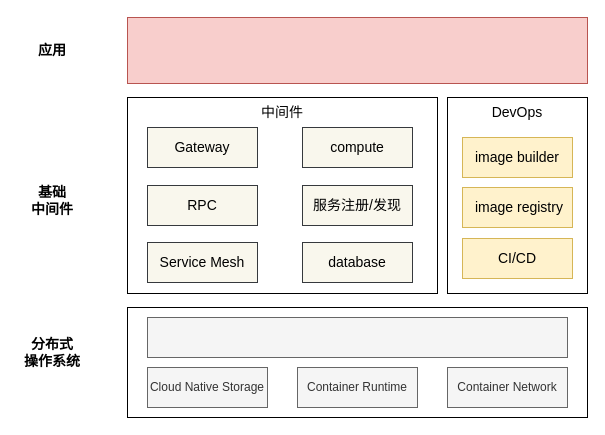
The diagram is 605 pixels wide and 435 high, and some of its shapes have lost their labels. The shapes that lost their labels are listed below. From the top down, each one's centre as x and y in pixels, then its label:
At (x=357, y=50): "APPLICATION".
At (x=357, y=337): "K8S".
